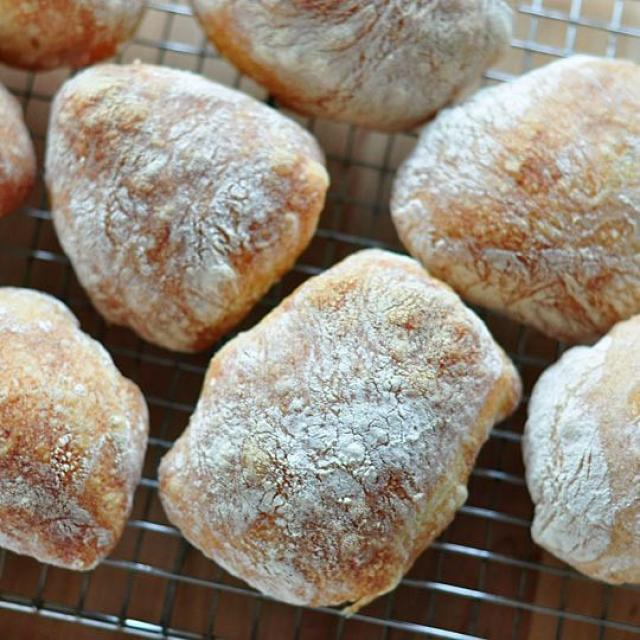Ciabatta: (158, 249, 520, 614), (45, 62, 328, 351), (392, 58, 639, 345), (0, 287, 147, 570), (522, 313, 638, 587), (521, 315, 639, 584)
